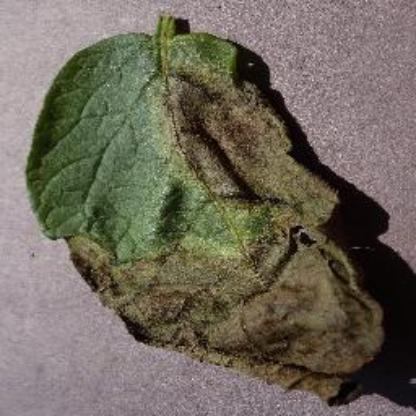Late-Blight: (24, 15, 400, 401)
